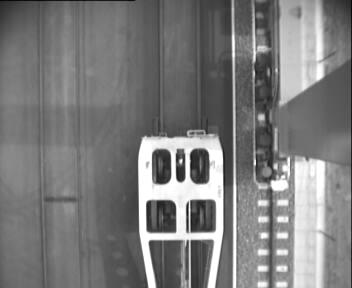twist_lock_2: (147, 145, 211, 188)
